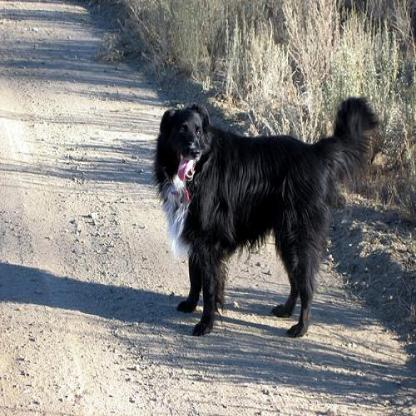Border_collie: (148, 89, 383, 340)
